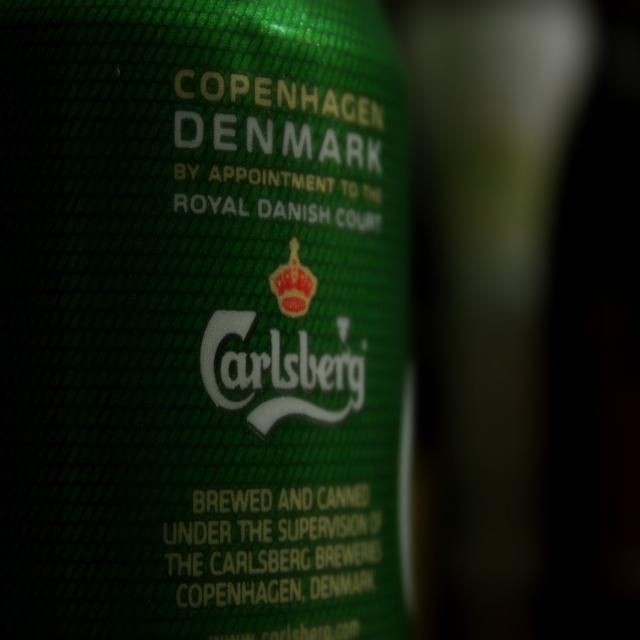carlsberg: (195, 235, 381, 445)
